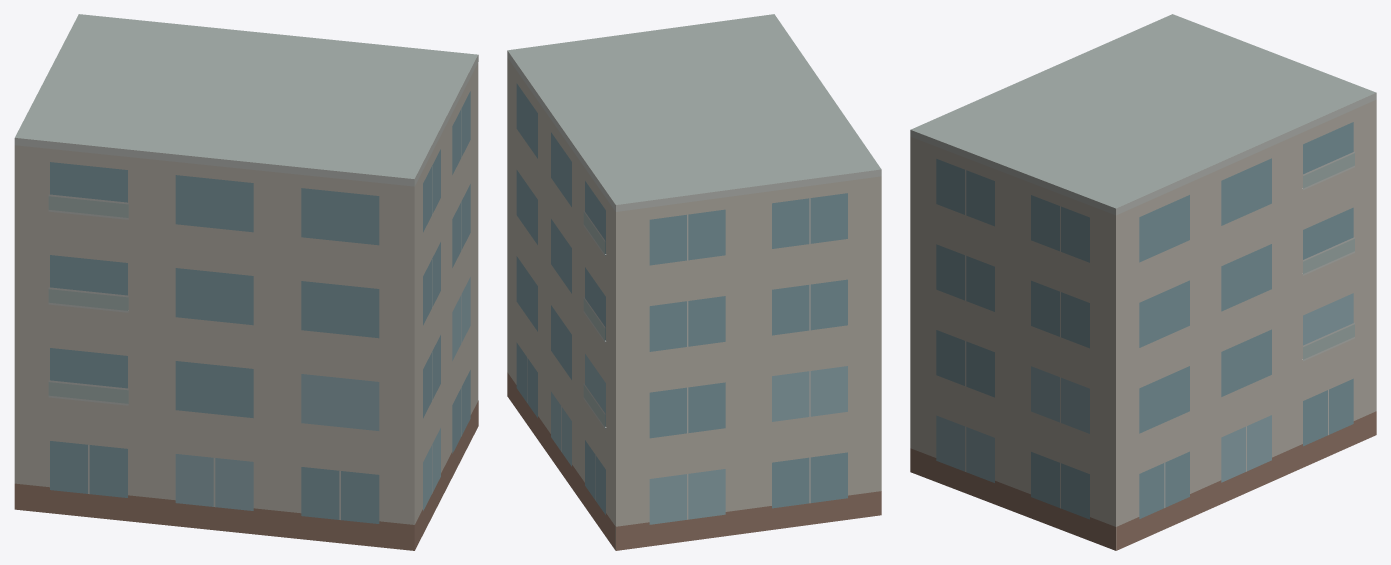
File: survey-upis-33043137.glb
3 renders of one model, left to right at view 1: azimuth 30°, elevation 25°; view 2: azimuth 150°, elevation 25°; view 3: azimuth 270°, elevation 25°, orthographic. The views are drawn at different scales.
Parts seen in each view (by area): view 1: survey-upis-33043137.tmp; view 2: survey-upis-33043137.tmp; view 3: survey-upis-33043137.tmp.
Boxes of the visible parts, <box> form: survey-upis-33043137.tmp: <box>14,14,478,550</box>; survey-upis-33043137.tmp: <box>507,14,881,550</box>; survey-upis-33043137.tmp: <box>910,14,1376,550</box>.
Bounding box in the file's own units: 14.88 × 12.2 × 15.07.
